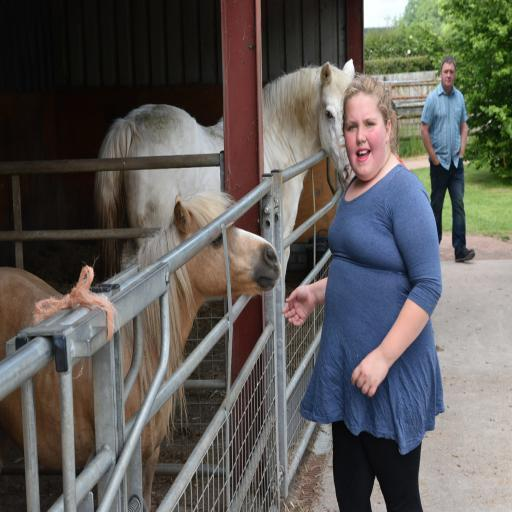horse: (0, 189, 282, 511), (92, 60, 356, 280)
